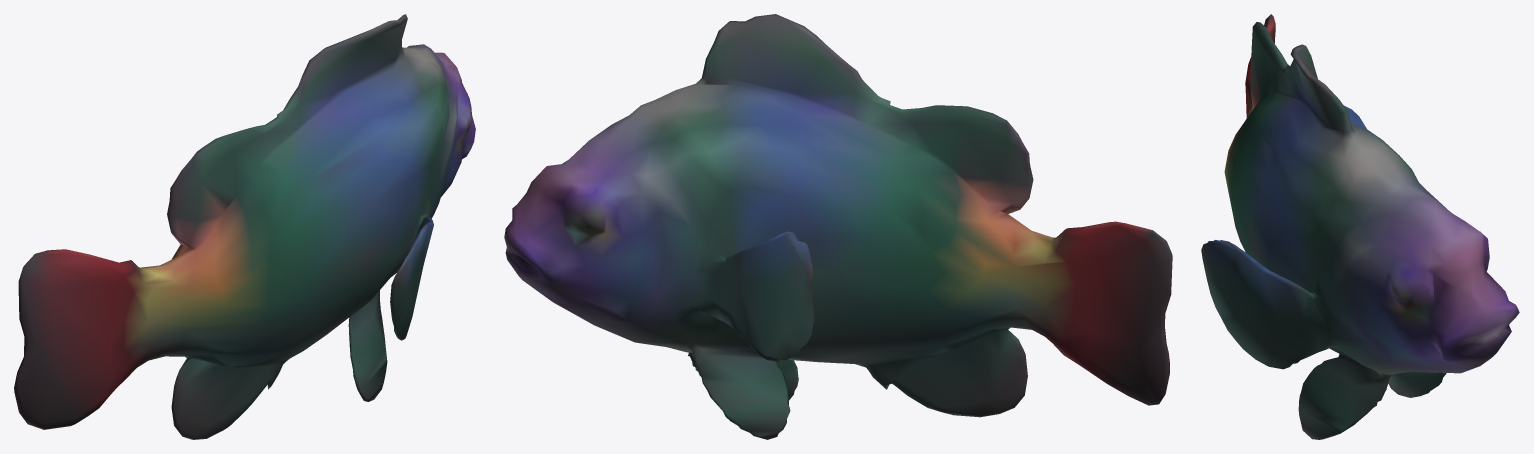
The model's file is fish_vat.glb.
3 renders of one model, left to right at view 1: azimuth 30°, elevation 25°; view 2: azimuth 150°, elevation 25°; view 3: azimuth 270°, elevation 25°, orthographic.
Parts seen in each view (by area): view 1: FishVAT; view 2: FishVAT; view 3: FishVAT.
Boxes of the visible parts, x1,y1,x2,y2 form: FishVAT: [14, 14, 475, 439]; FishVAT: [504, 14, 1172, 439]; FishVAT: [1201, 14, 1519, 439].
Size of the model in its own units: 0.4539 by 0.3007 by 0.2265.
